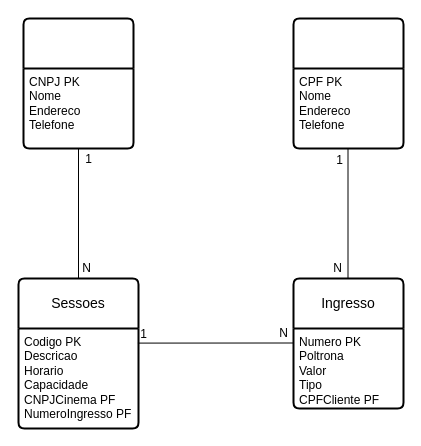
Some shapes in this 421 by 446 pixel diagram are drawn without their labels. The shapes that lost their labels are listed below. From the top down, each one's box as (x1, y1, x2, y2) in pixels, then its label:
(22, 17, 134, 149): Cinema
(292, 17, 404, 149): Cliente
